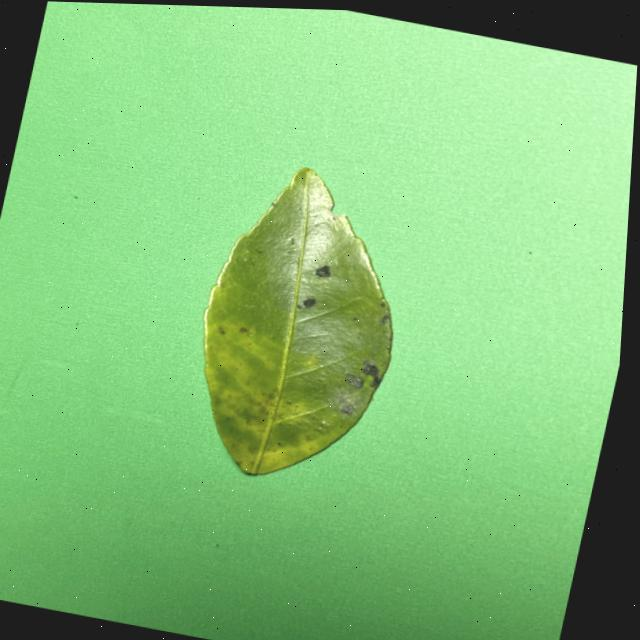sooty_mold: (203, 168, 391, 475)
